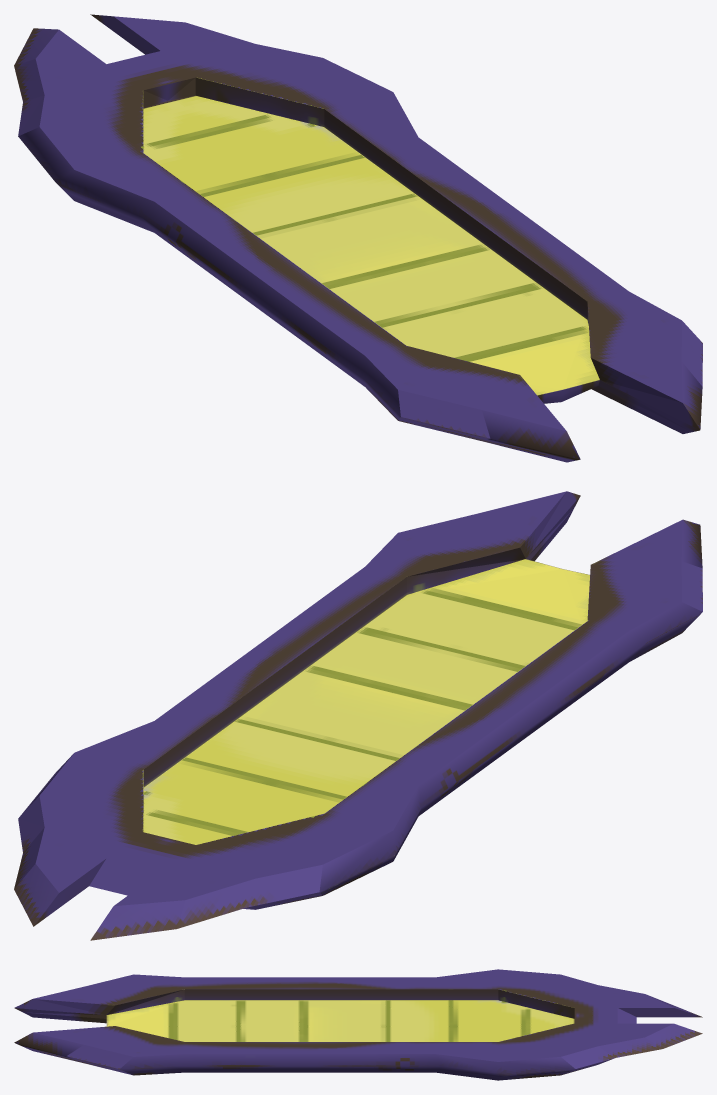
File: hoverboard.glb
The picture shows the model from 3 angles, top to bottom: view 1: azimuth 30°, elevation 25°; view 2: azimuth 150°, elevation 25°; view 3: azimuth 270°, elevation 25°; orthographic projection. The views are drawn at different scales.
Visible parts, largest first — view 1: hoverboard; view 2: hoverboard; view 3: hoverboard.
Part boxes in pixels (x1,y1,x2,y2): hoverboard: (14,14,702,462); hoverboard: (14,491,702,940); hoverboard: (14,969,702,1080).
Bounding box in the file's own units: 0.084 × 0.00738 × 0.2481.
1 material, 1 textured.
